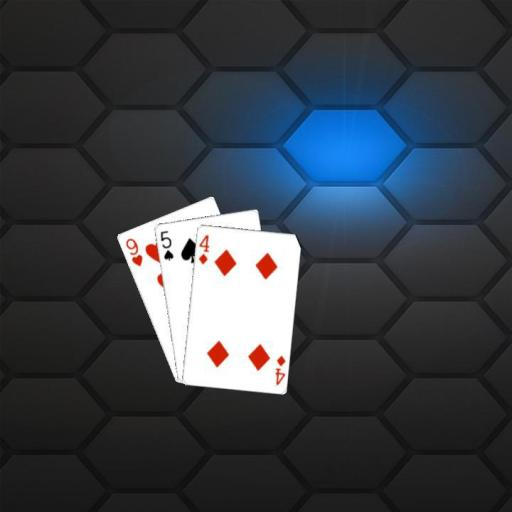4D: (195, 231, 210, 265), (272, 352, 287, 386)
5S: (157, 227, 174, 262)
9H: (122, 235, 144, 268)
